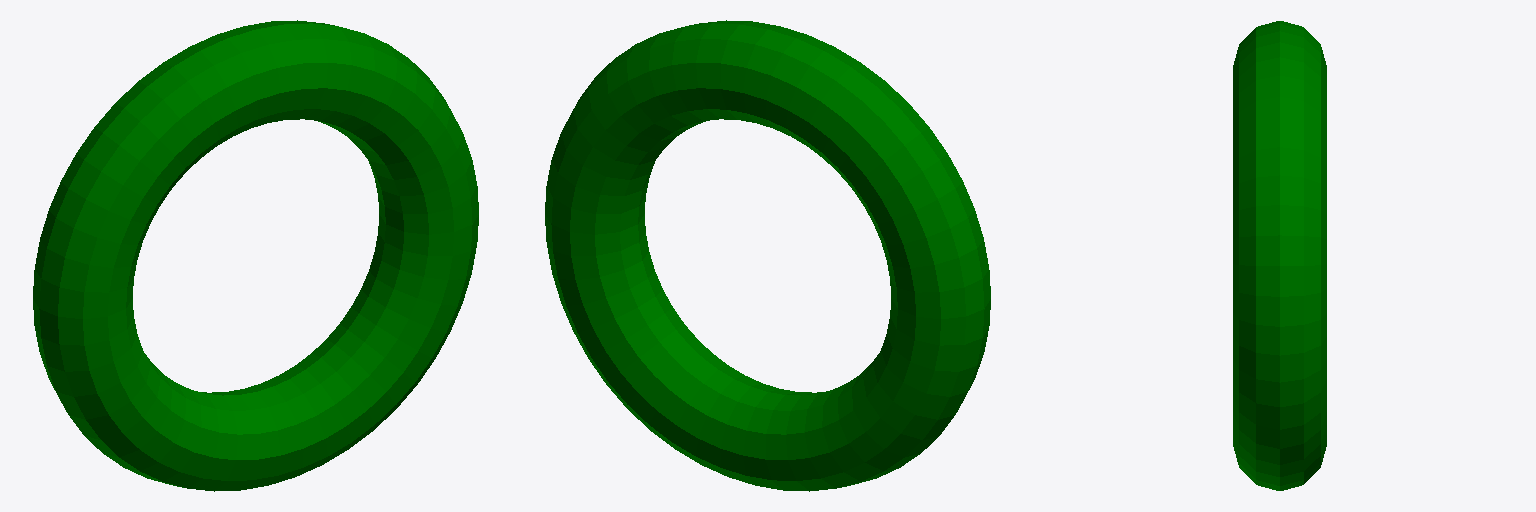
The robot description file, URDF, robot "cube.urdf":
<?xml version="0.0" ?>
<robot name="cube.urdf">
  <link name="baseLink">
    <contact>
      <lateral_friction value="1.0"/>
      <rolling_friction value="1.0"/>
      <inertia_scaling value="3.0"/>
      <contact_cfm value="0.0"/>
      <contact_erp value="1.0"/>
    </contact>
    <inertial>
      <origin rpy="0 0 0" xyz="0 0 0"/>
       <mass value=".1"/>
       <inertia ixx="1" ixy="0" ixz="0" iyy="1" iyz="0" izz="1"/>
    </inertial>
    <visual>
      <origin rpy="0 0 0" xyz="0 0 0"/>
      <geometry>
				<mesh filename="torus_only.obj" scale=".3 .3 .3"/>
      </geometry>
       <material name="white">
        <color rgba="0 .5 0 1"/>
      </material>
    </visual>
    <collision concave="yes">
      <origin rpy="0 0 0" xyz="0 0 0"/>
      <geometry>
	 	<mesh filename="torus_only.obj" scale=".3 .3 .3"/>
      </geometry>
    </collision>
  </link>
</robot>

--- What the picture shows (computed from the rendered views, not written in the file) ---
Views: 3 orthographic renders of the robot side by side, from view 1: azimuth 30°, elevation 25°; view 2: azimuth 150°, elevation 25°; view 3: azimuth 270°, elevation 25°.
Model cube.urdf with 1 links and 0 joints (none), rooted at baseLink, posed every joint at zero.
Visible links, largest first — view 1: baseLink; view 2: baseLink; view 3: baseLink.
Link boxes in pixels (box(x1,y1,x2,y2)): baseLink: box(33, 20, 478, 491); baseLink: box(545, 20, 990, 491); baseLink: box(1233, 21, 1326, 490).
Size in the robot's own frame: 19.05 by 3.81 by 19.05 metres.
Meshes: 1 distinct files referenced, 1 mesh visuals loaded (1 OBJ).